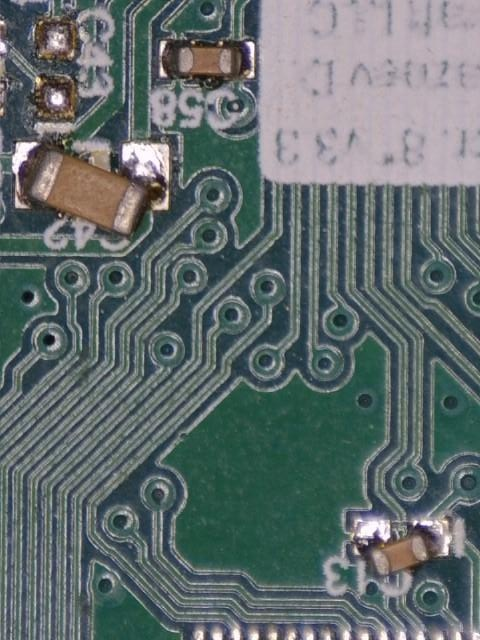pcb_defect: (15, 142, 169, 236), (355, 520, 449, 577)
